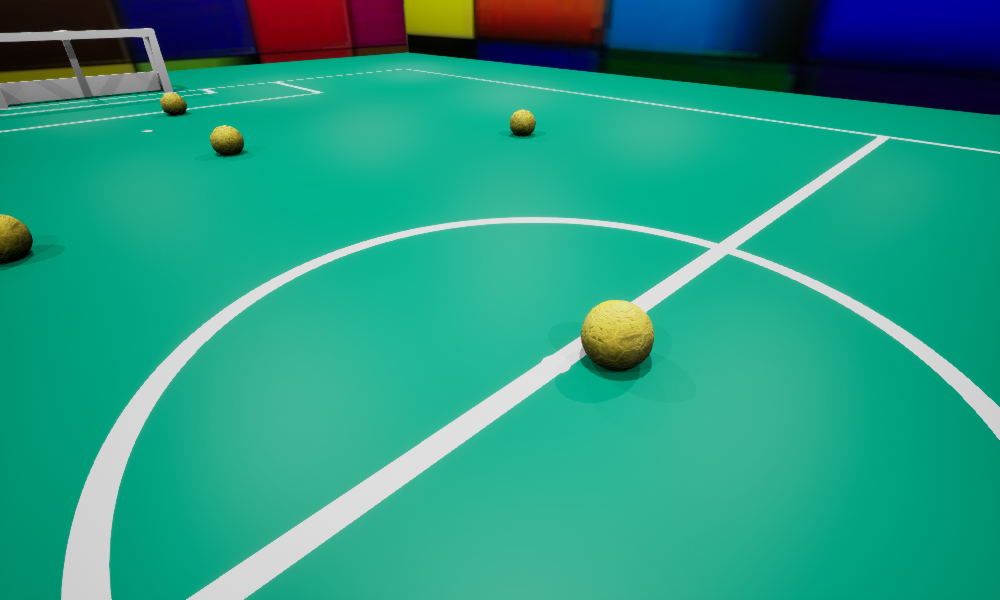b: (581, 300, 653, 370), (0, 214, 32, 261), (210, 125, 243, 155), (510, 109, 535, 135), (160, 93, 186, 113)
g: (0, 28, 172, 108)
